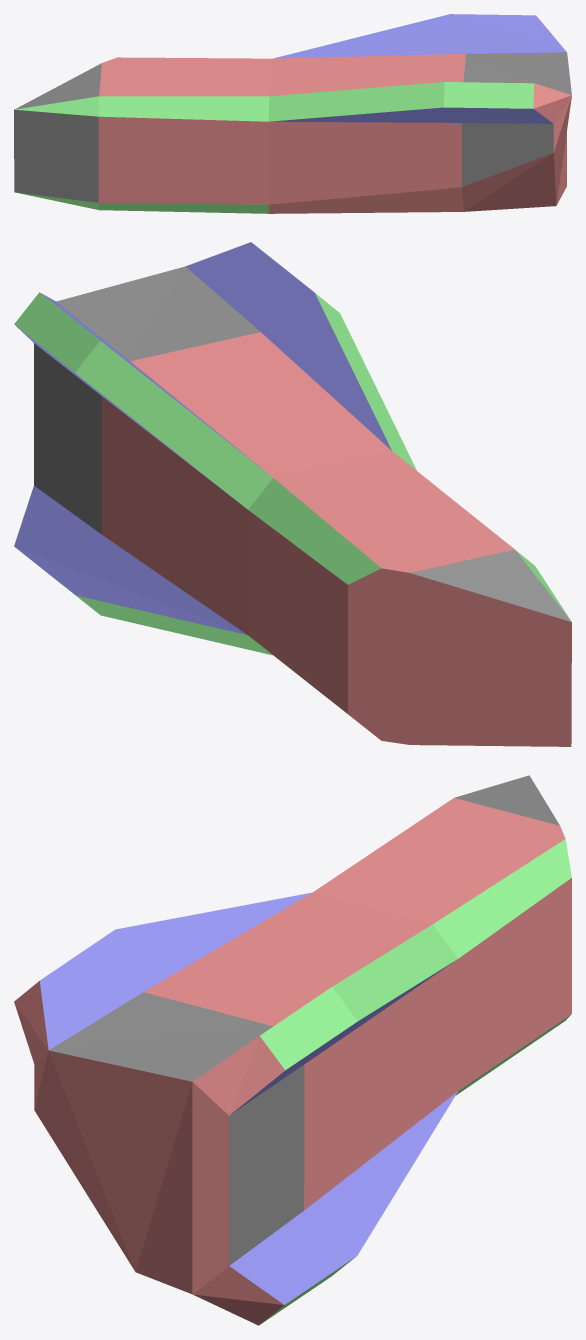
The model's file is world_obj22.gltf.
3 renders of one model, top to bottom at view 1: azimuth 30°, elevation 25°; view 2: azimuth 150°, elevation 25°; view 3: azimuth 270°, elevation 25°, orthographic. The views are drawn at different scales.
Visible parts, largest first — view 1: world_obj22; view 2: world_obj22; view 3: world_obj22.
Boxes of the visible parts, box(x1,y1,x2,y2) form: world_obj22: box(14, 14, 571, 213); world_obj22: box(14, 242, 571, 746); world_obj22: box(14, 775, 571, 1325).
Size of the model in its own units: 1.18 by 0.4539 by 0.7923.
